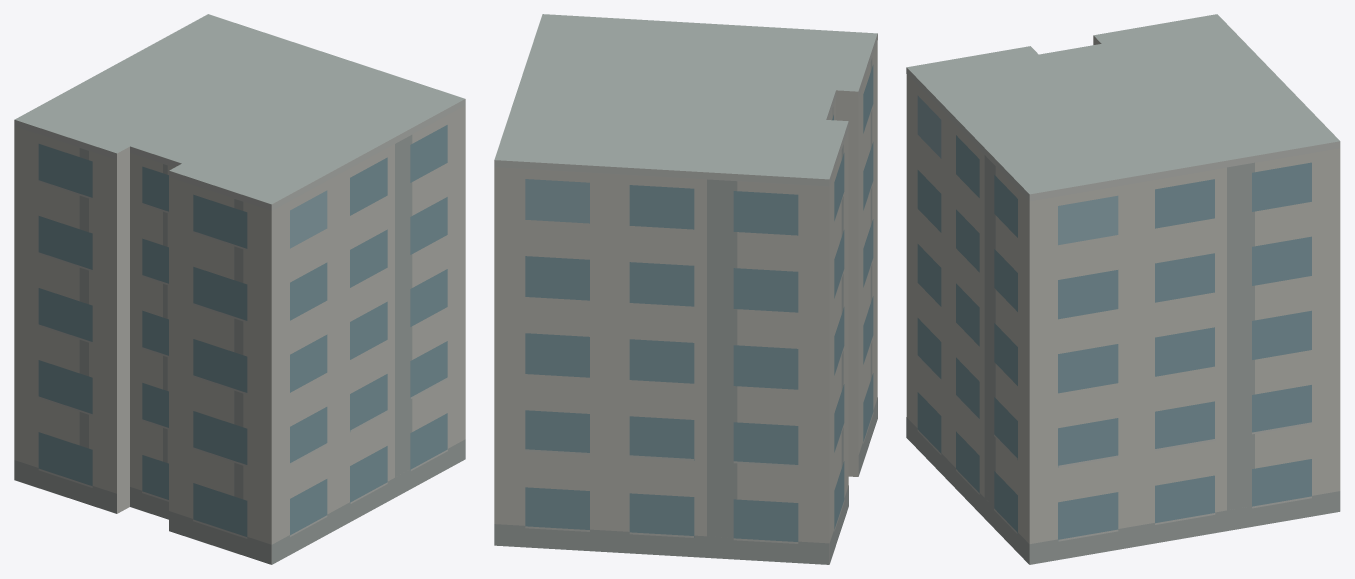
Rendered from survey-upis-32542702.glb.
The picture shows the model from 3 angles, left to right: view 1: azimuth 30°, elevation 25°; view 2: azimuth 150°, elevation 25°; view 3: azimuth 270°, elevation 25°; orthographic projection. The views are drawn at different scales.
Parts seen in each view (by area): view 1: survey-upis-32542702.tmp; view 2: survey-upis-32542702.tmp; view 3: survey-upis-32542702.tmp.
Boxes of the visible parts, x1,y1,x2,y2 form: survey-upis-32542702.tmp: (14, 14, 465, 564); survey-upis-32542702.tmp: (494, 14, 877, 564); survey-upis-32542702.tmp: (906, 14, 1340, 564).
Bounding box in the file's own units: 13.79 × 13.2 × 14.02.
